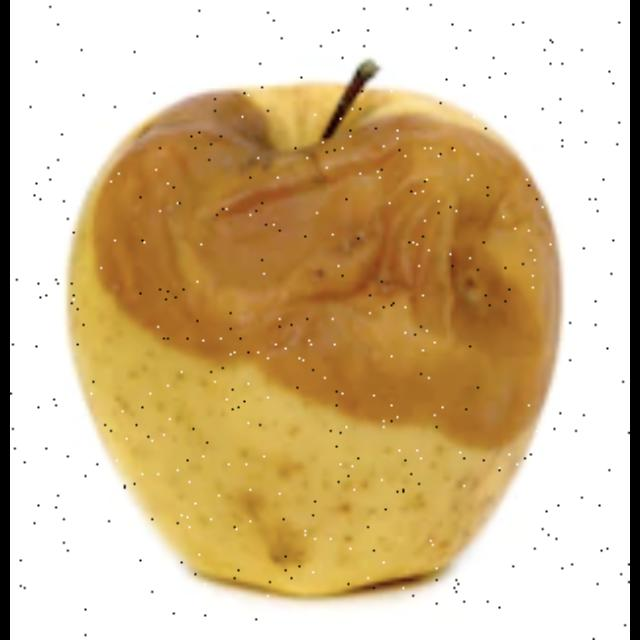Apel Tidak Segar: (55, 70, 573, 602)
